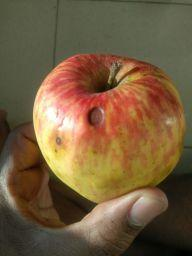Apple Semirotten: (25, 50, 188, 204)
